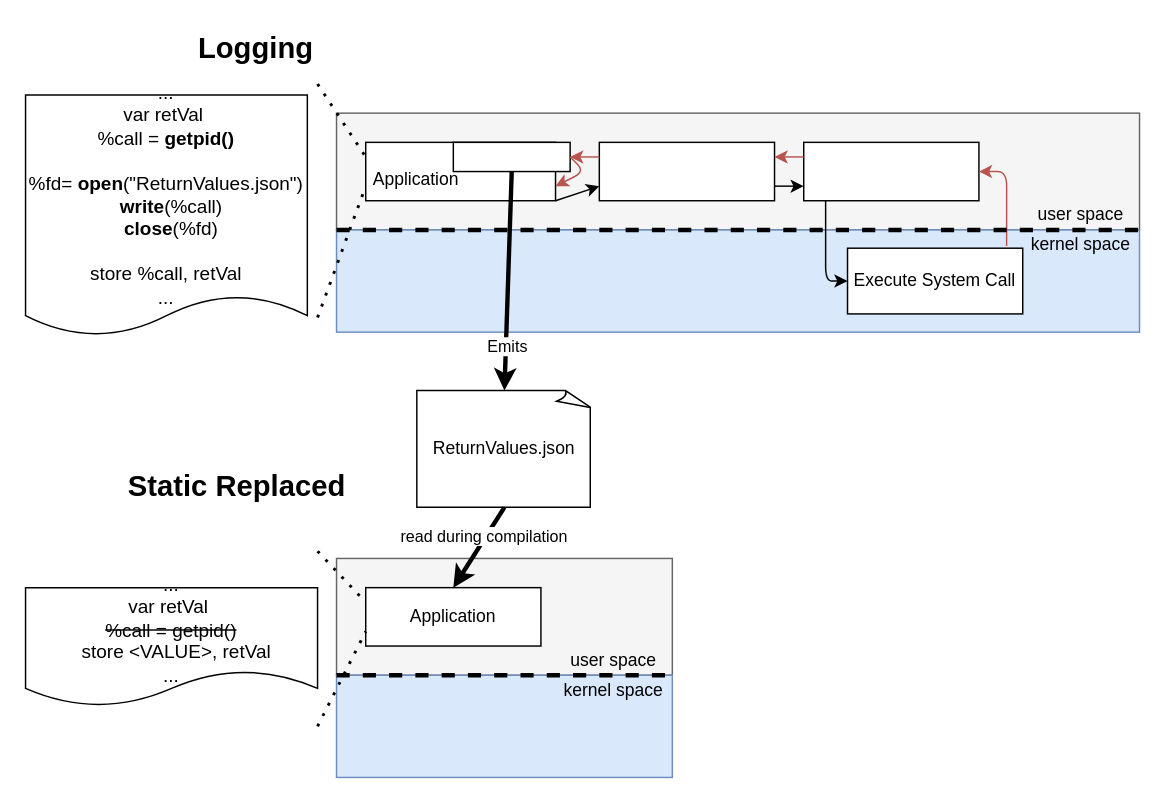
Image size: 1168x803. Some labels were removed from this diagram. The shapes that lost their labels are listed below. From the top down, each one's box as (x1, y1, x2, y2) in pixels, then its label:
(452, 141, 570, 172): save retVal
(598, 141, 775, 201): Library Wrapper
(802, 141, 979, 201): syscall()
